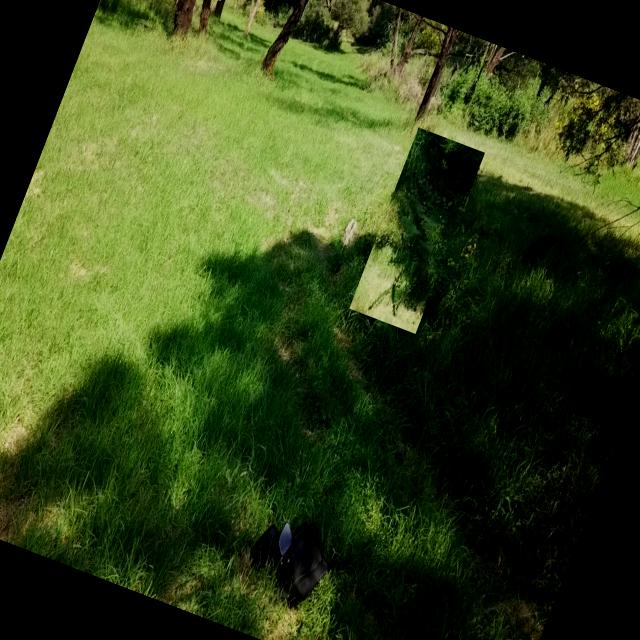Mysore-Thorn-Weed: (348, 128, 484, 335)
